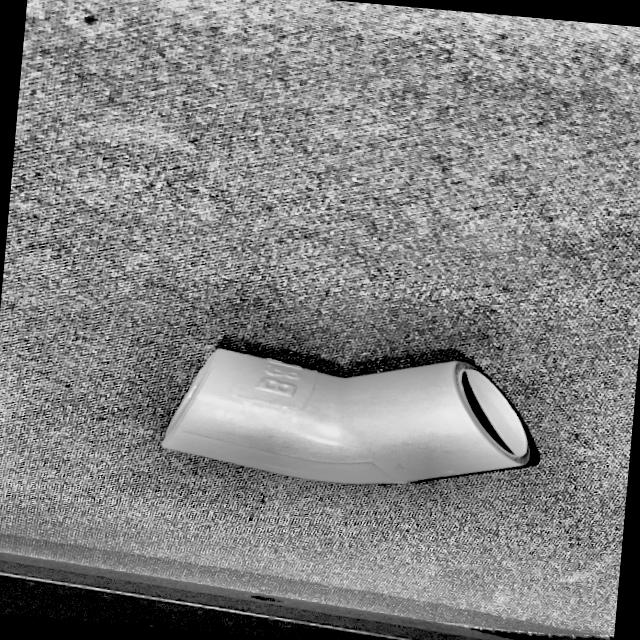ELBOW45: (162, 345, 539, 483)
